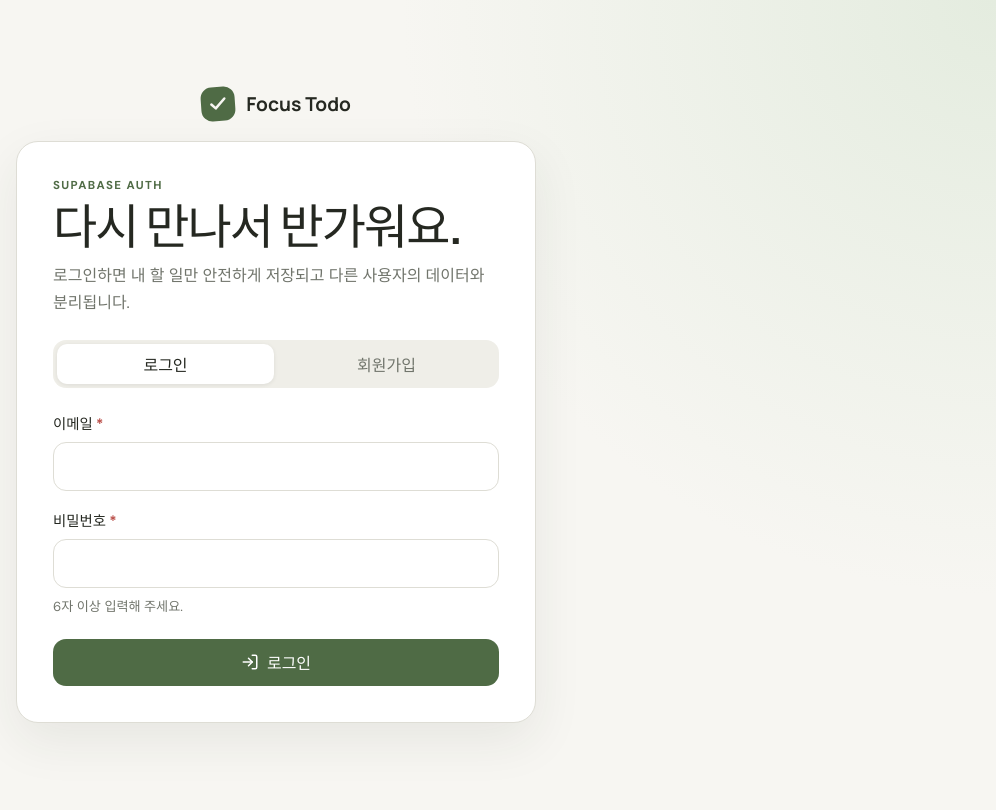
it: LoginPage › 이메일 확인이 필요한 회원가입 상태를 안내한다
Click the tab "회원가입". click: (386, 364)
box: [278,344,495,384]
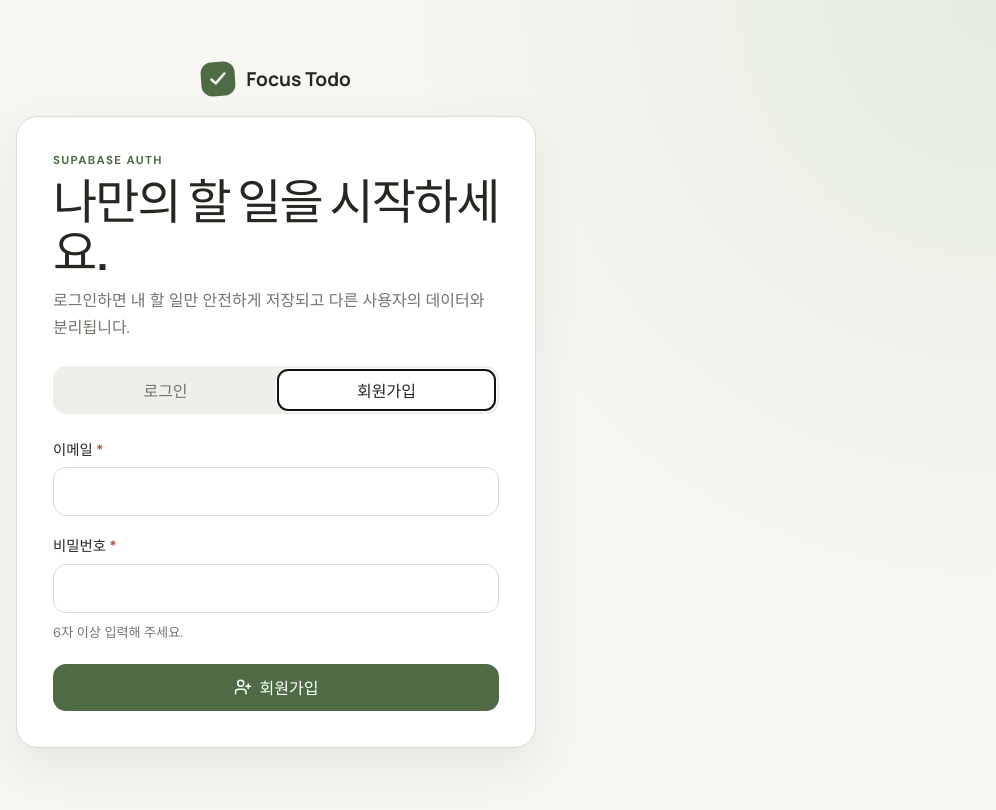
Type "new@example.com" into the field labelled "이메일 *". click: (276, 492)
box: [53,468,499,516]
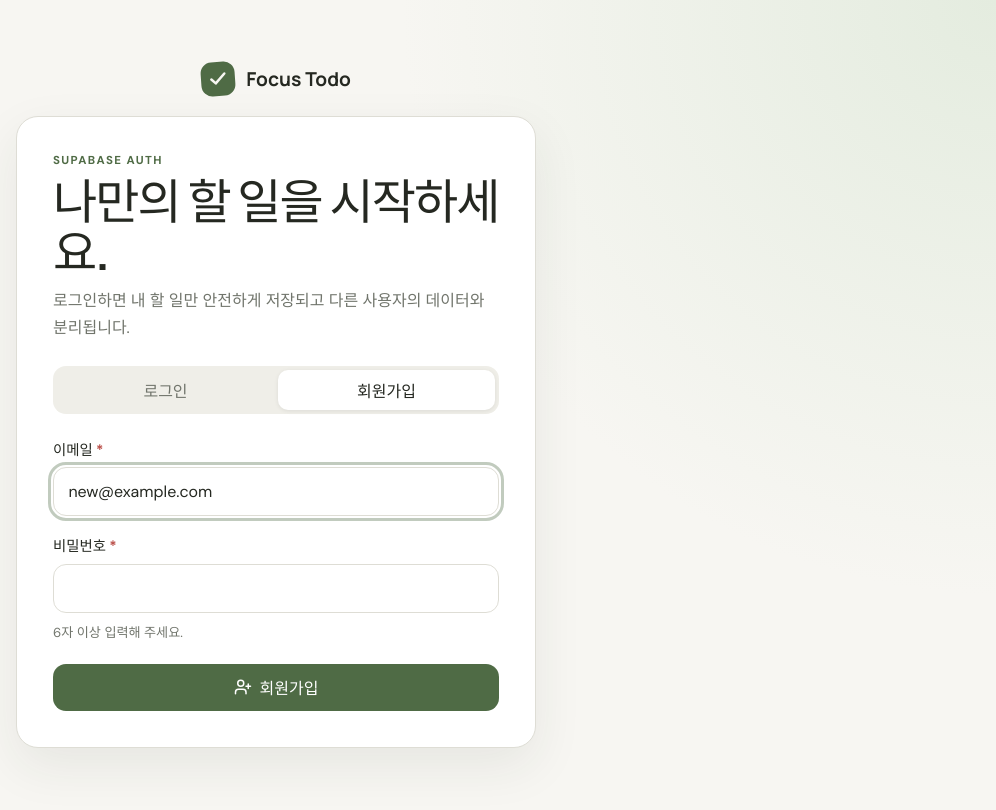
Type "secret12" into the password field labelled "비밀번호 *". click: (276, 589)
box: [53,564,499,613]
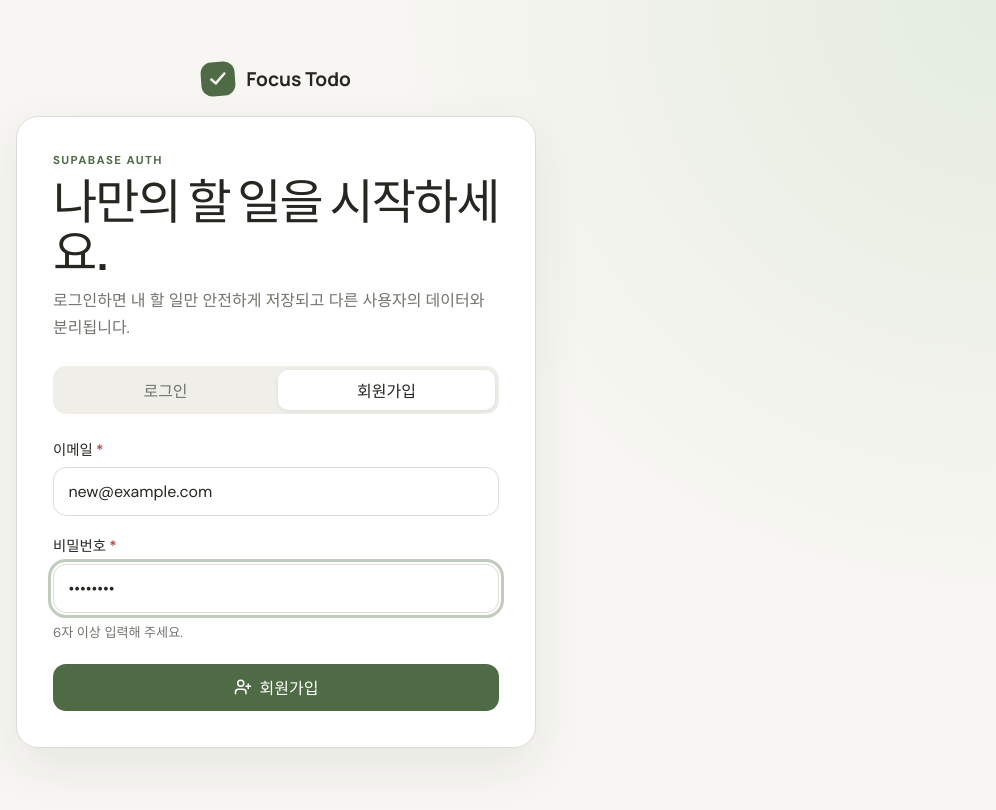
Click the button "회원가입". click: (276, 687)
box: [53,664,499,711]
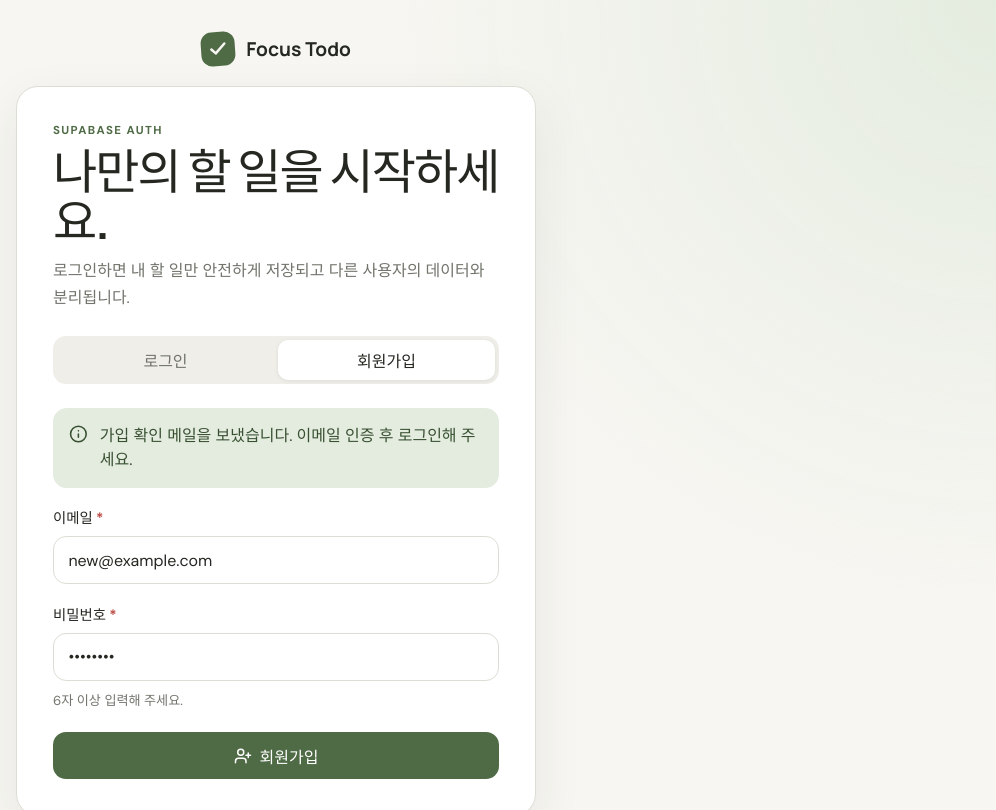
Expected: the message shows "가입 확인 메일을 보냈습니다.", [100,424,476,470]
